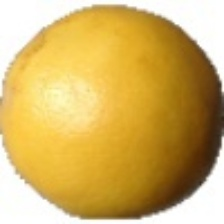grapes: (46, 9, 192, 194)
